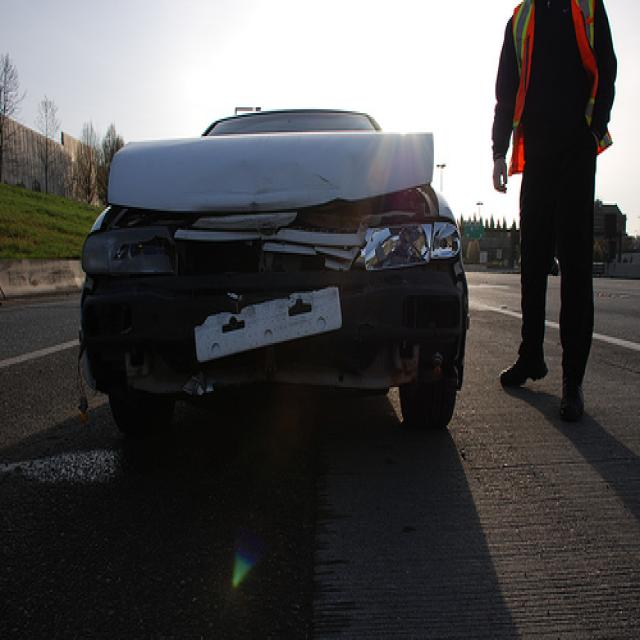light_vehicle: (76, 100, 470, 431)
